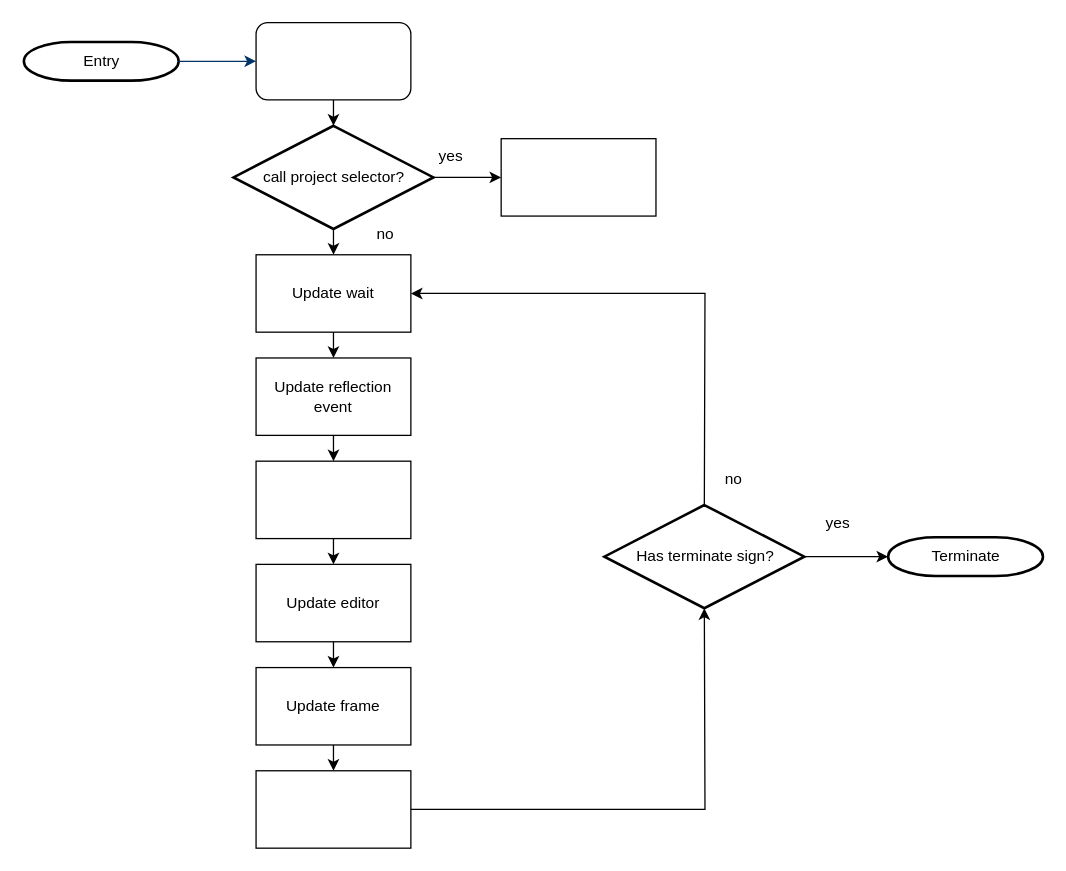
The diagram is 1066 pixels wide and 871 high, and some of its shapes have lost their labels. The shapes that lost their labels are listed below. From the top down, each one's box as (x1, y1, x2, y2) in pixels, then its label:
(255, 21, 411, 100): Initialze
(500, 137, 656, 216): Do project selector work
(255, 460, 411, 539): Update thread event
(255, 769, 411, 848): Draw
